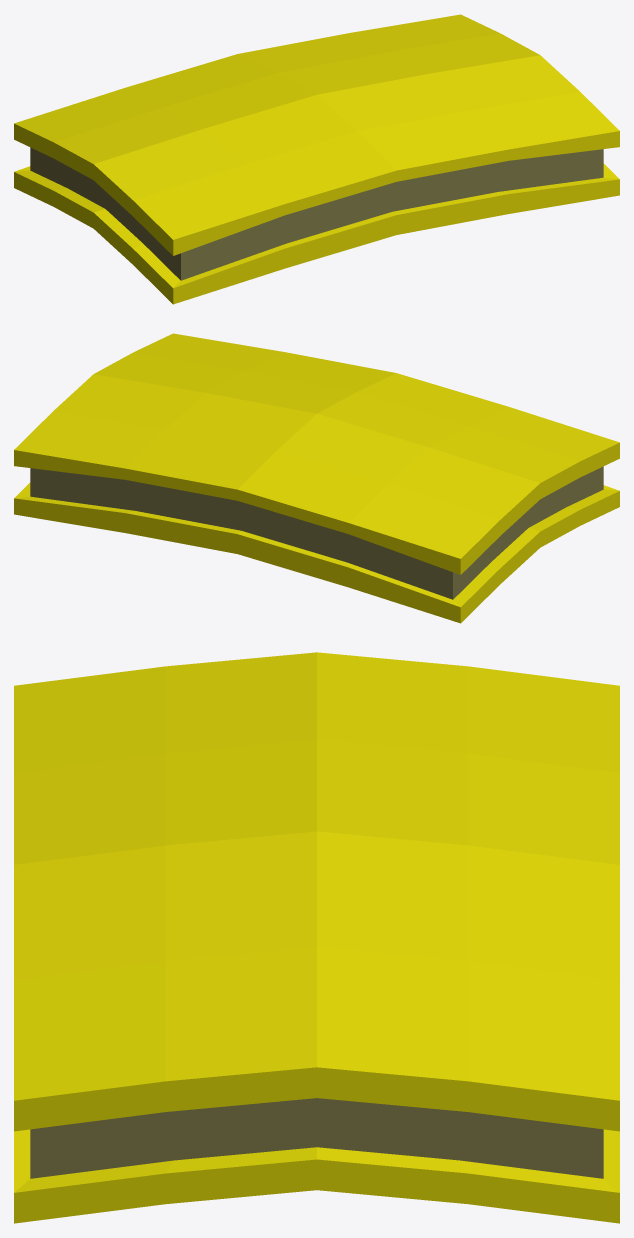
The model's file is Scrap.fbx.
3 views of the same model, one above another, from view 1: azimuth 30°, elevation 25°; view 2: azimuth 150°, elevation 25°; view 3: azimuth 270°, elevation 25° (orthographic). The views are drawn at different scales.
Visible parts, largest first — view 1: pCube1; view 2: pCube1; view 3: pCube1.
Part boxes in pixels (x1,y1,x2,y2): pCube1: [14, 14, 619, 304]; pCube1: [14, 333, 619, 623]; pCube1: [14, 652, 619, 1223].
Bounding box in the file's own units: 7.25 × 1.5 × 4.47.
